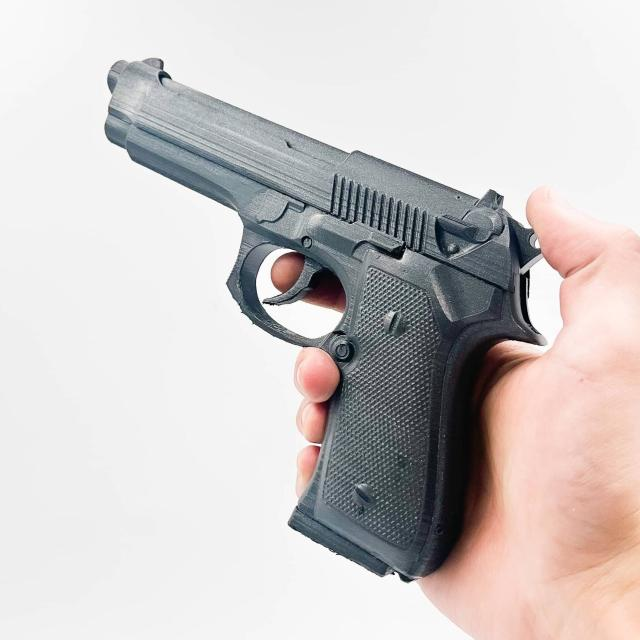Gun: (96, 31, 554, 594)
